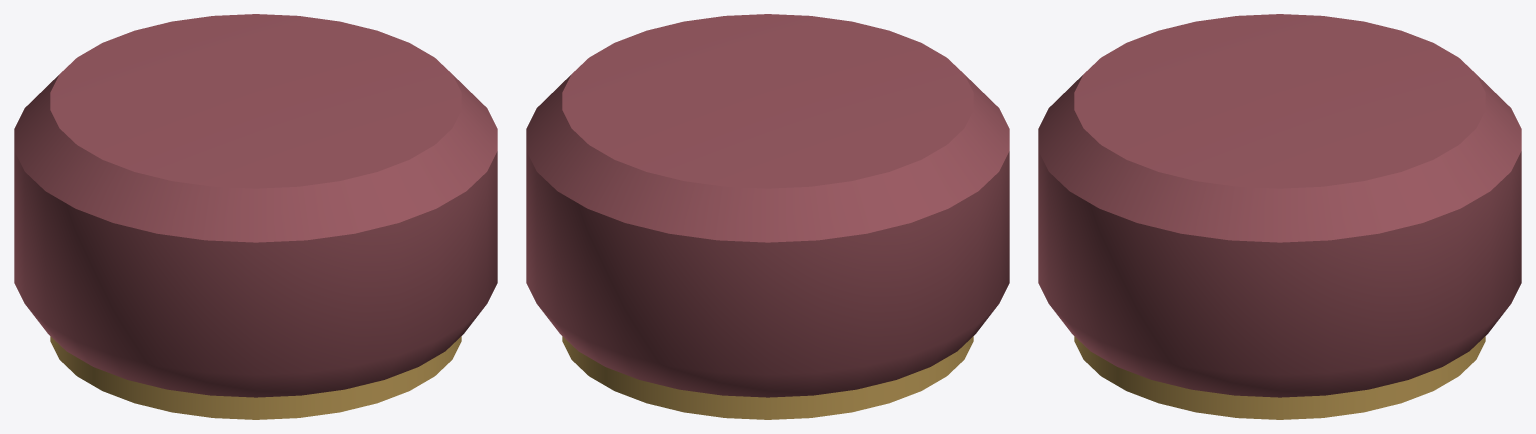
File: mall-ottoman-round.glb
3 views of the same model, side by side, from view 1: azimuth 30°, elevation 25°; view 2: azimuth 150°, elevation 25°; view 3: azimuth 270°, elevation 25° (orthographic).
Parts seen in each view (by area): view 1: seat__fabric, base__brass; view 2: seat__fabric, base__brass; view 3: seat__fabric, base__brass.
Part boxes in pixels (<box>): seat__fabric: <box>14,14,497,397</box>; base__brass: <box>50,336,461,419</box>; seat__fabric: <box>526,14,1009,397</box>; base__brass: <box>562,336,973,419</box>; seat__fabric: <box>1038,14,1521,397</box>; base__brass: <box>1074,336,1485,419</box>.
Size of the model in its own units: 0.8 by 0.43 by 0.7956.
